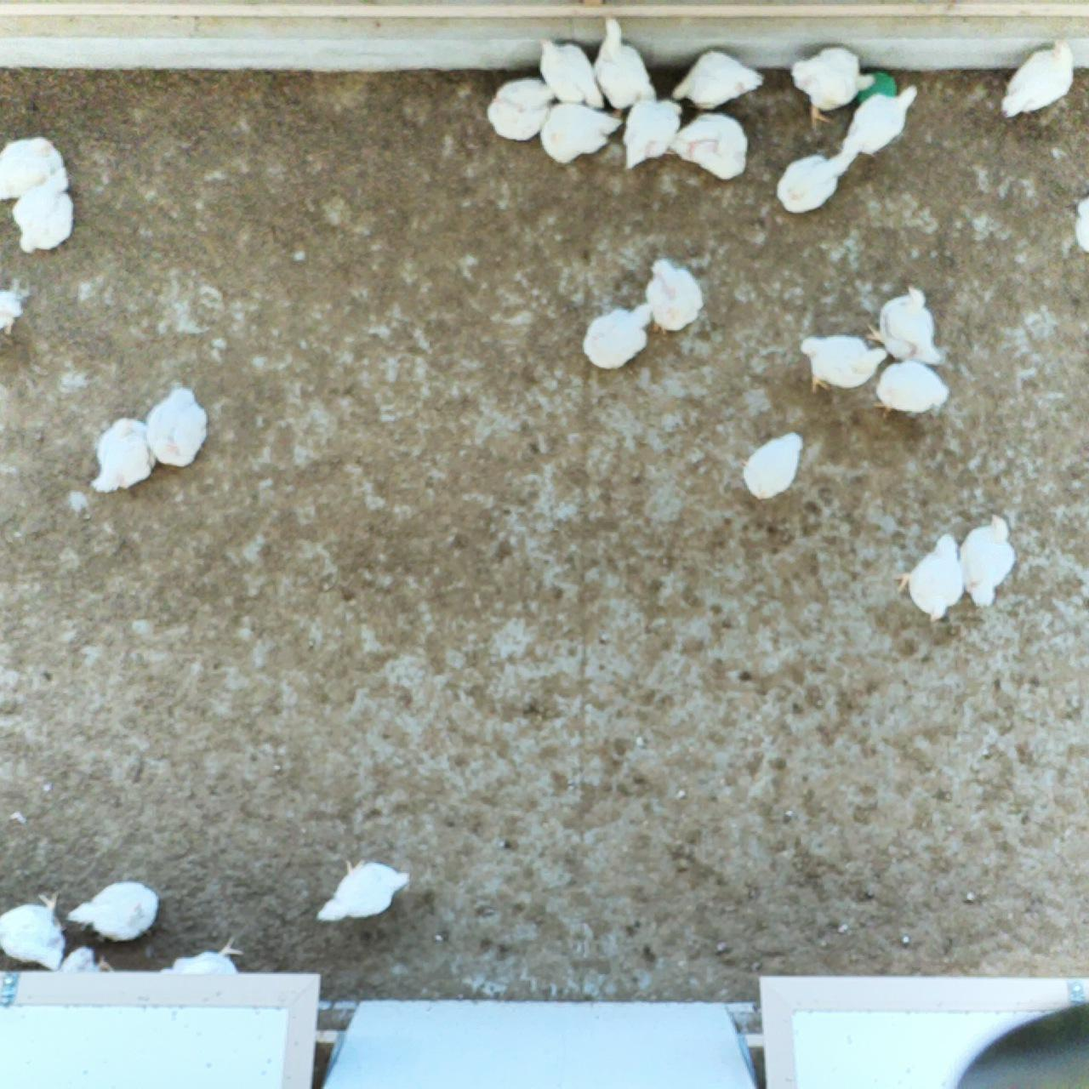chicken: (584, 12, 659, 120), (993, 35, 1081, 125), (151, 935, 245, 1018), (893, 530, 969, 624), (790, 44, 871, 129), (863, 285, 943, 369), (532, 98, 627, 167), (656, 107, 748, 176), (319, 860, 411, 926), (670, 50, 766, 113), (840, 82, 921, 156), (140, 383, 211, 466), (10, 167, 74, 259), (955, 513, 1016, 608), (773, 147, 857, 214), (68, 881, 161, 941), (583, 296, 655, 373), (872, 357, 954, 422), (91, 416, 157, 495), (487, 76, 562, 145), (735, 430, 804, 504), (0, 888, 63, 969), (537, 34, 604, 109), (645, 254, 707, 335), (800, 332, 888, 389), (621, 96, 686, 172), (0, 132, 63, 205), (52, 943, 120, 1009), (1068, 186, 1089, 264), (0, 283, 21, 346)
